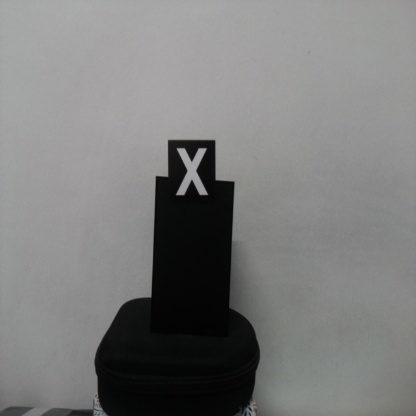id_13: (167, 139, 217, 211)
